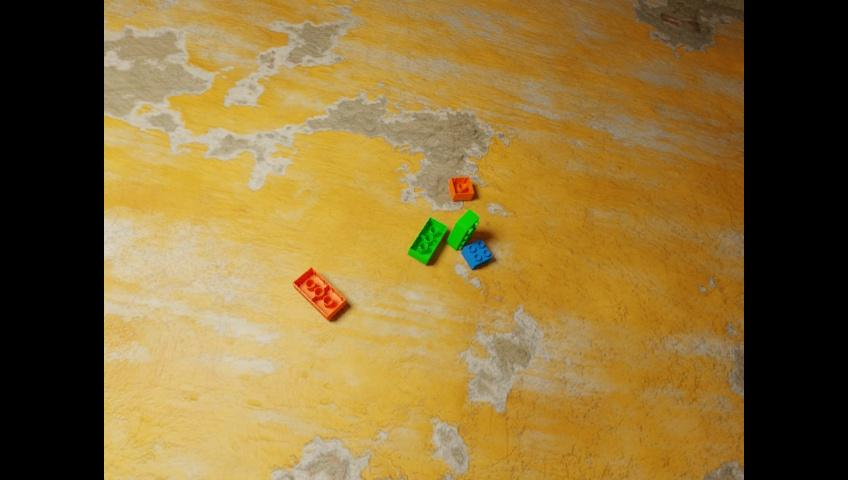2x2_blue: (460, 239, 491, 269)
2x2_orange: (448, 177, 473, 199)
4x2_green: (407, 216, 450, 264), (446, 208, 479, 250)
4x2_orange: (292, 266, 345, 320)
